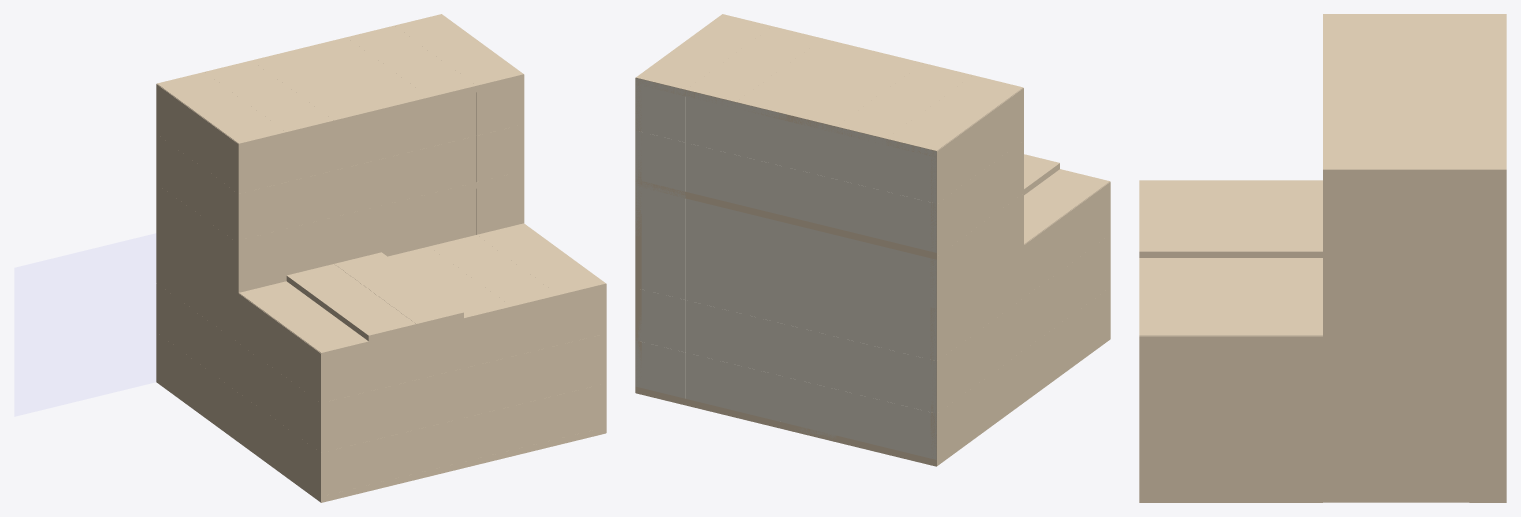
The picture shows the model from 3 angles, left to right: view 1: azimuth 30°, elevation 25°; view 2: azimuth 150°, elevation 25°; view 3: azimuth 270°, elevation 25°; orthographic projection. The views are drawn at different scales.
Visible parts, largest first — view 1: BoundaryWall (×19), ceiling_fraction (×36), OpeningWall (×2), SIP; view 2: floor_fraction (×36), BoundaryWall (×16), SIP, OpeningWall; view 3: BoundaryWall (×19), OpeningWall (×2).
Part boxes in pixels (box(x1,y1,x2,y2)): BoundaryWall (×19): box(156, 14, 606, 502); ceiling_fraction (×36): box(244, 82, 600, 494); OpeningWall (×2): box(286, 252, 463, 341); SIP: box(239, 205, 381, 246); floor_fraction (×36): box(635, 78, 936, 459); BoundaryWall (×16): box(635, 14, 1110, 465); SIP: box(786, 216, 936, 259); OpeningWall: box(1024, 154, 1059, 194); BoundaryWall (×19): box(1139, 14, 1506, 502); OpeningWall (×2): box(1139, 200, 1322, 257).
Size of the model in its own units: 10.51 by 7.02 by 7.
